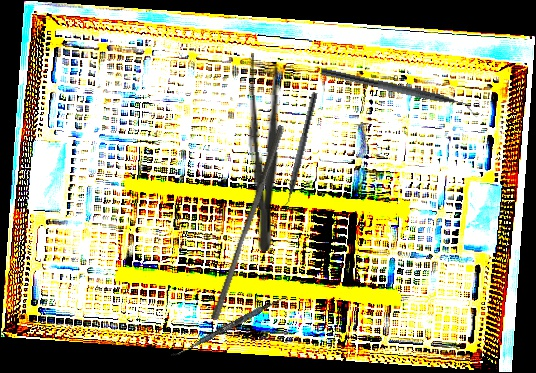Chopper: (316, 67, 482, 119), (276, 90, 318, 214)
Dressing Forceps: (245, 52, 284, 252)
Pusher: (210, 122, 285, 323)
Spatula Surgical: (170, 291, 288, 362)
